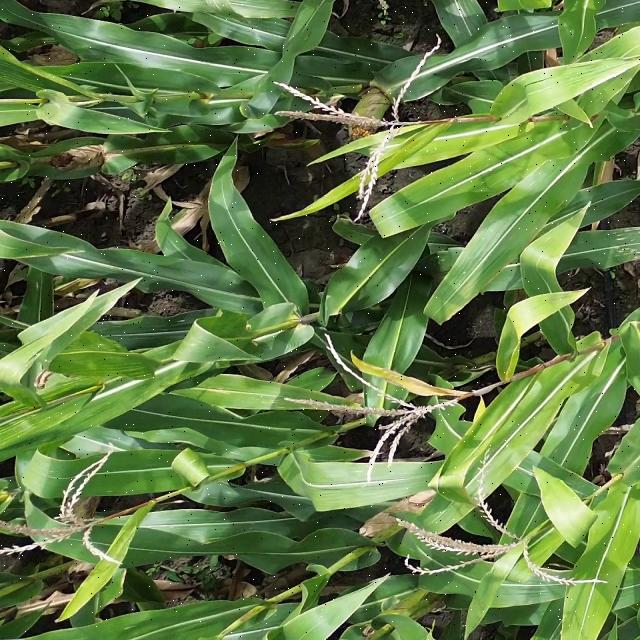gray-leaf-spot: (83, 300, 191, 375), (0, 391, 78, 463), (578, 207, 640, 290), (0, 46, 61, 97), (89, 103, 143, 149)
